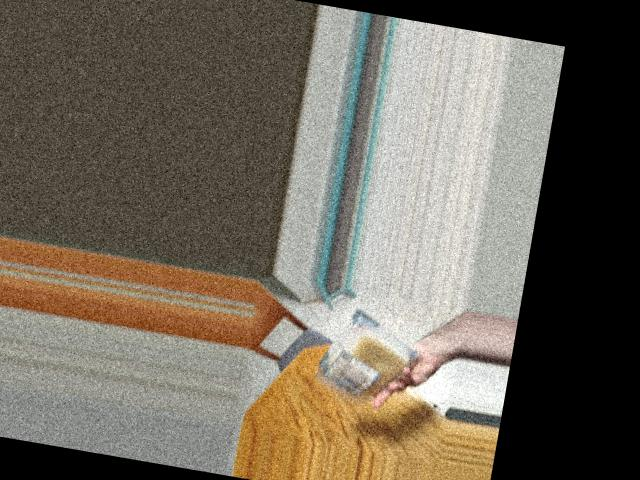cheese: (316, 321, 413, 405)
